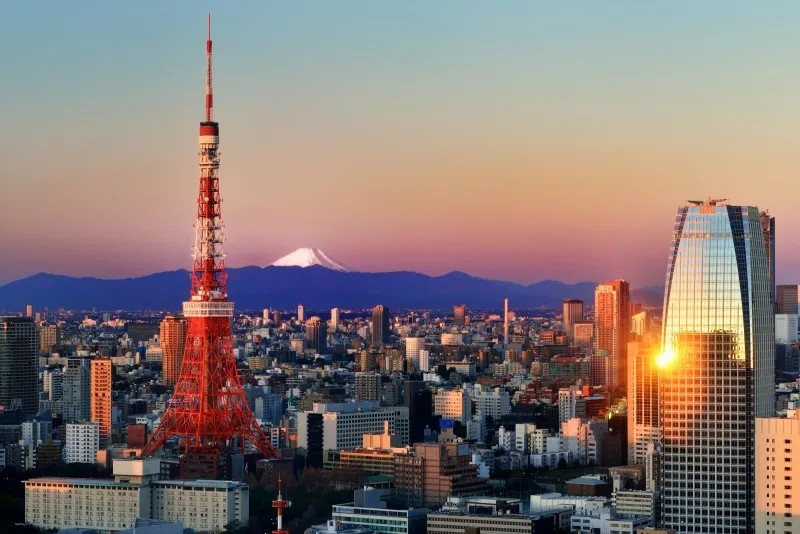Tokyo: (144, 8, 279, 465)
